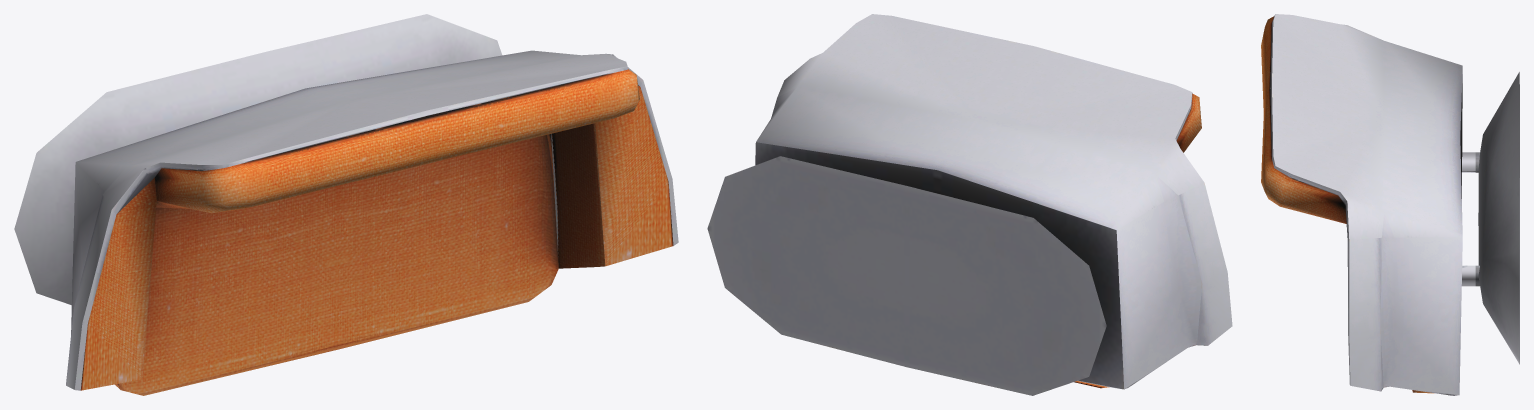
The model's file is nt_2020_space_couch_LOD2.obj.
3 views of the same model, side by side, from view 1: azimuth 30°, elevation 25°; view 2: azimuth 150°, elevation 25°; view 3: azimuth 270°, elevation 25° (orthographic). The views are drawn at different scales.
Visible parts, largest first — view 1: mtl_nt_2020_space_couch; view 2: mtl_nt_2020_space_couch; view 3: mtl_nt_2020_space_couch.
Boxes of the visible parts, <box> form: mtl_nt_2020_space_couch: <box>14,14,678,395</box>; mtl_nt_2020_space_couch: <box>707,14,1232,395</box>; mtl_nt_2020_space_couch: <box>1261,14,1519,395</box>.
Bounding box in the file's own units: 206 × 100 × 99.18.
